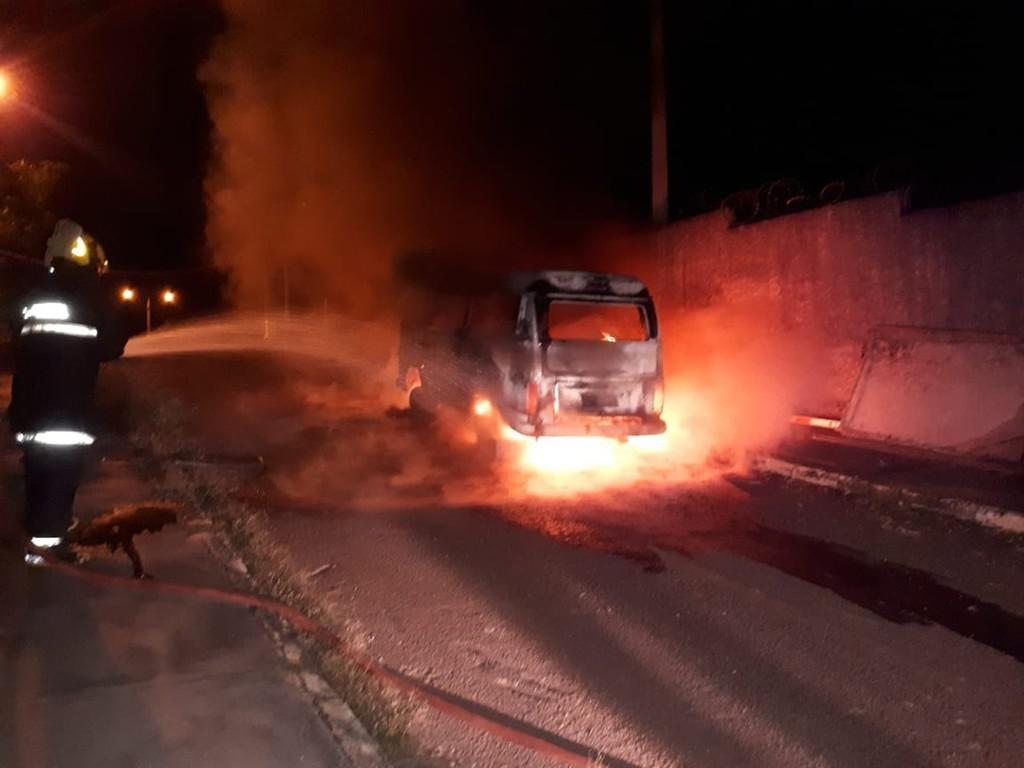Fire: (503, 415, 660, 475)
